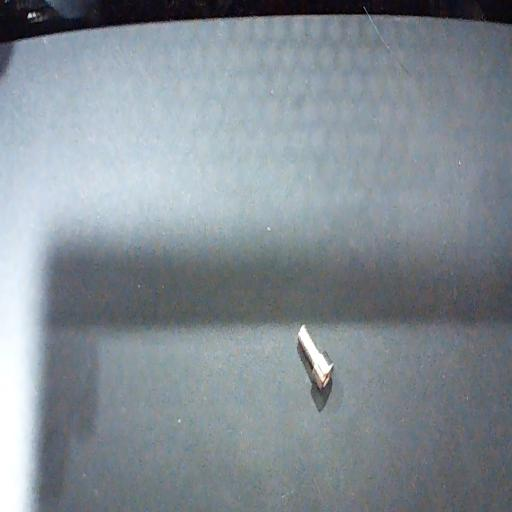screw: (298, 325, 333, 390)
